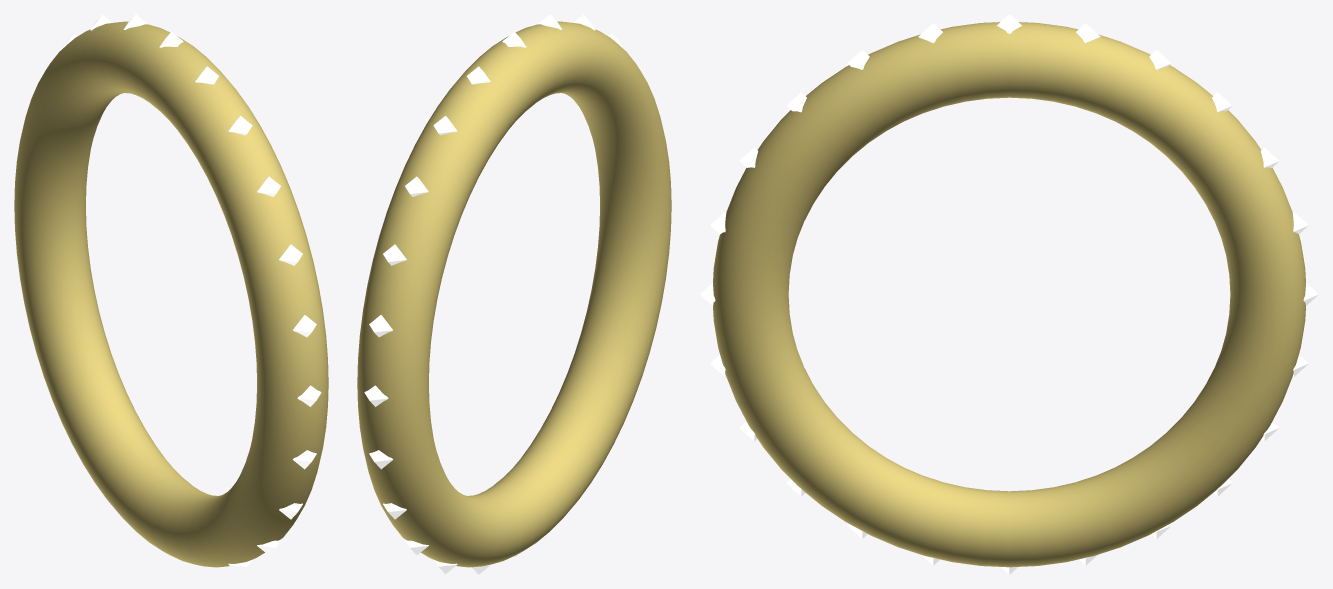
3 renders of one model, left to right at view 1: azimuth 30°, elevation 25°; view 2: azimuth 150°, elevation 25°; view 3: azimuth 270°, elevation 25°, orthographic. The views are drawn at different scales.
Parts seen in each view (by area): view 1: part; view 2: part; view 3: part.
Part boxes in pixels (x1=…): part: x1=14, y1=21, x2=328, y2=567; part: x1=357, y1=21, x2=671, y2=567; part: x1=713, y1=22, x2=1305, y2=567.
Bounding box in the file's own units: 0.056 × 0.454 × 0.454.
